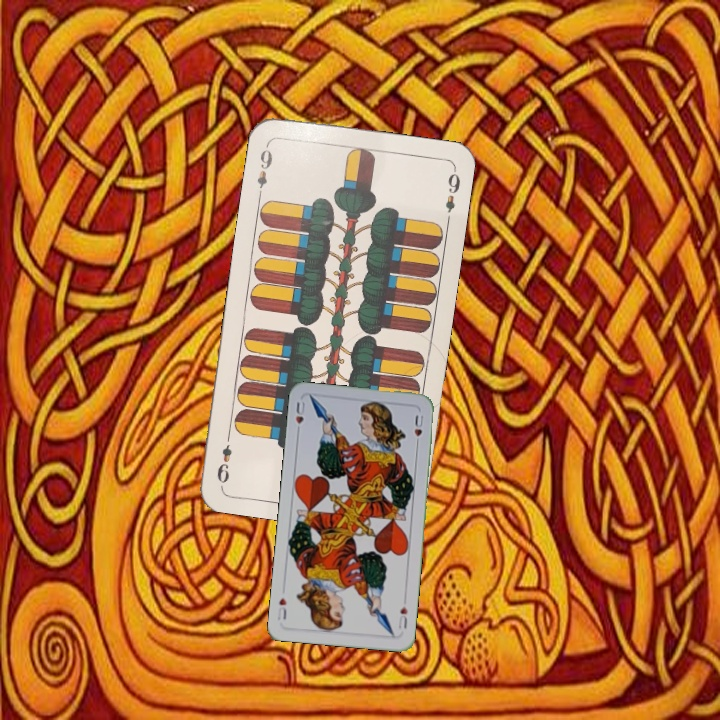E9: (253, 140, 275, 199)
HU: (291, 397, 307, 437), (394, 602, 410, 633)
